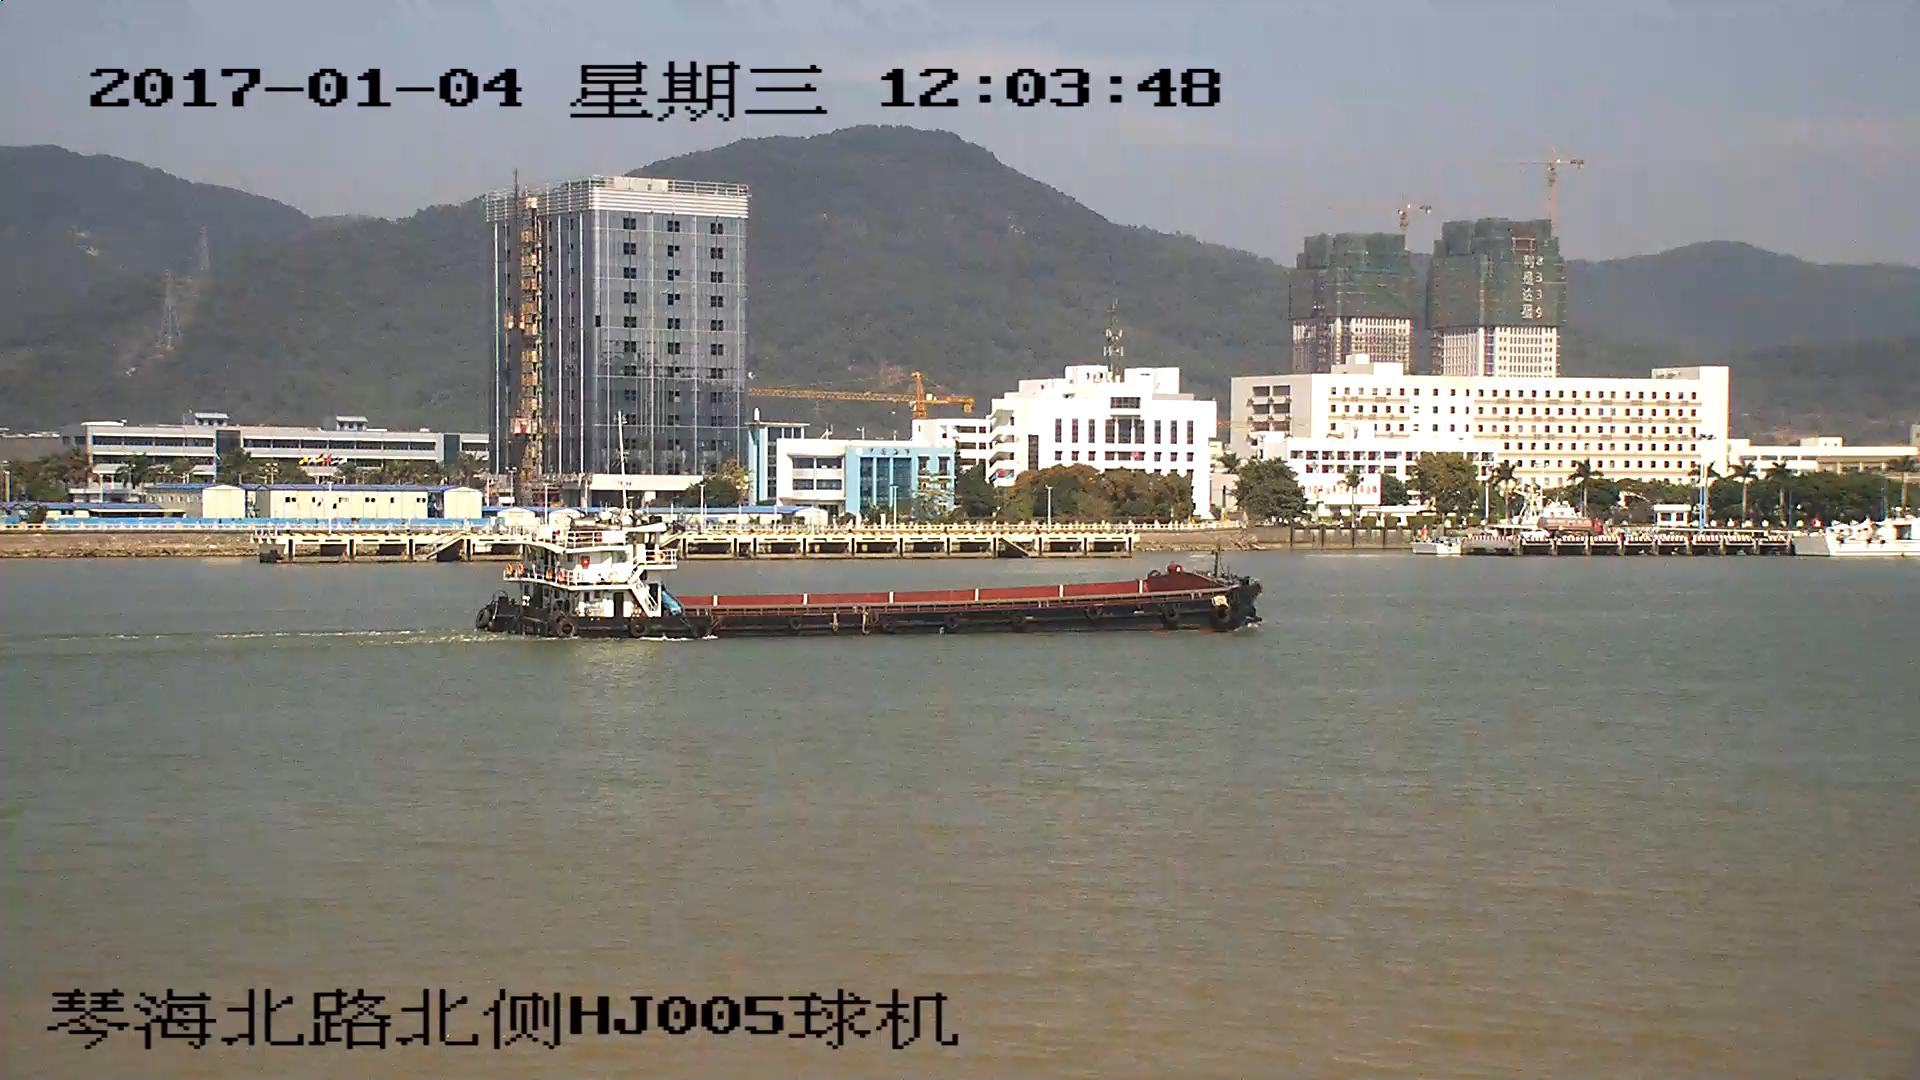general cargo ship: (474, 529, 1263, 637)
